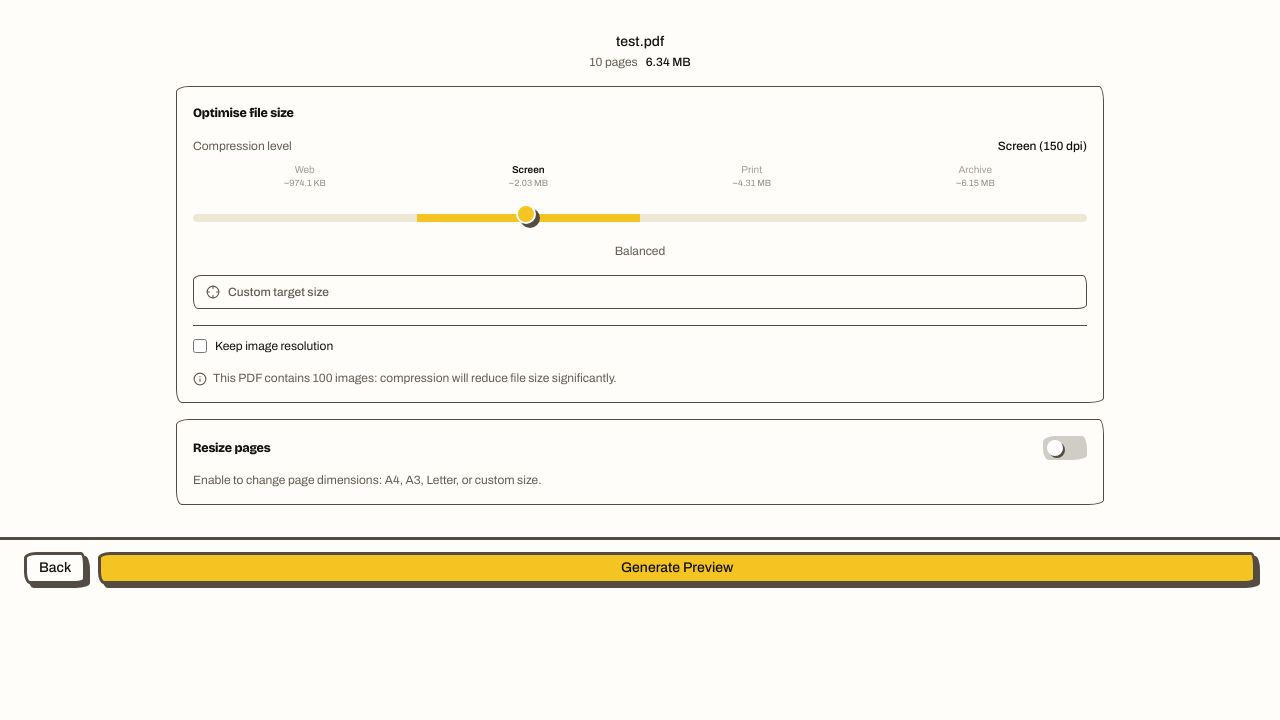
Test: ConfigureStep — custom target pre-estimate warning (Phase C) › [CFG-WARN-01] shows amber warning when custom target is below web-level estimate
Note: Open custom mode
Click the button "Custom target size" at (278, 292), box [193,274,1087,308]
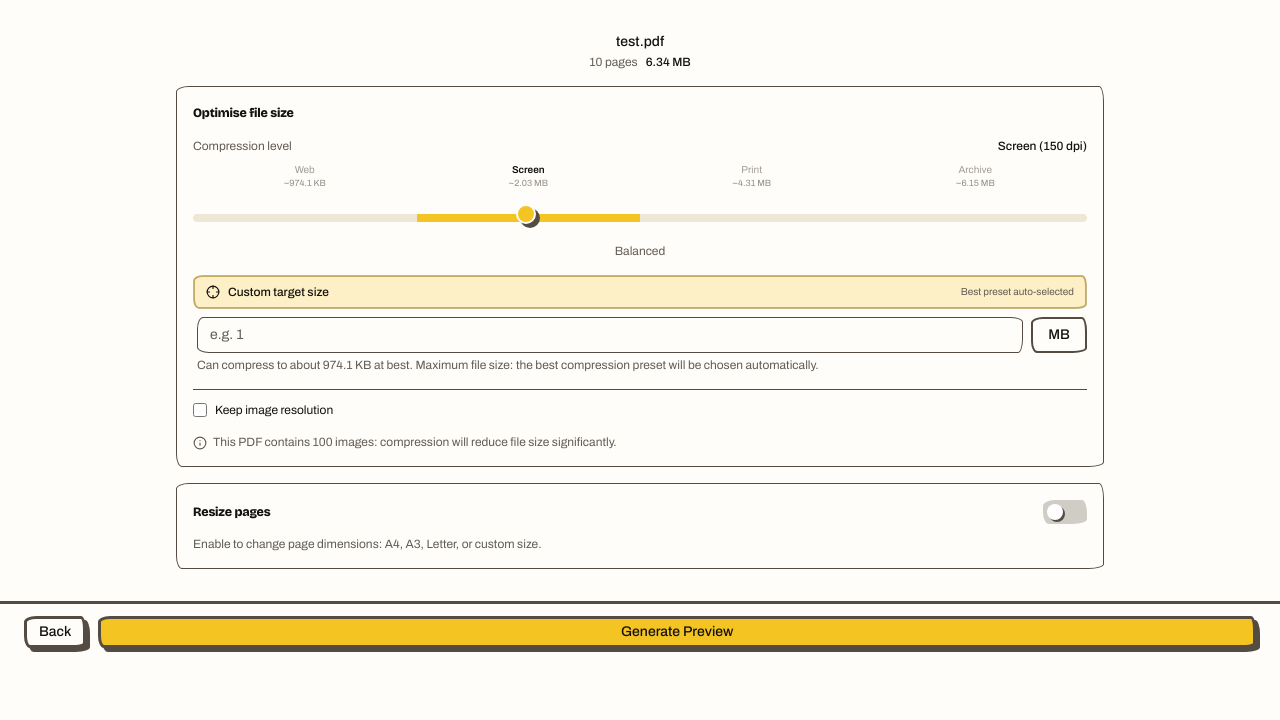
Type "100" into the number field with test id "custom-target-size" at (610, 334), box [197,316,1023,352]
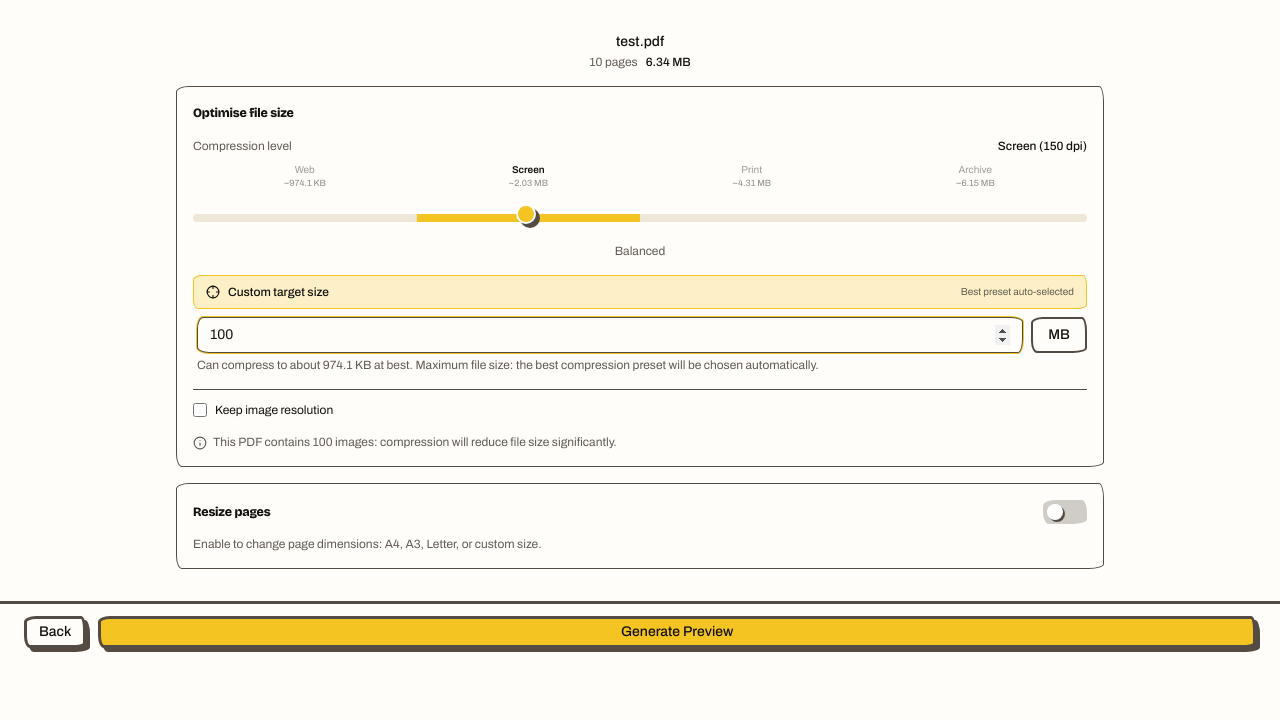
Click the button "MB" at (1059, 334), box [1031,316,1087,352]
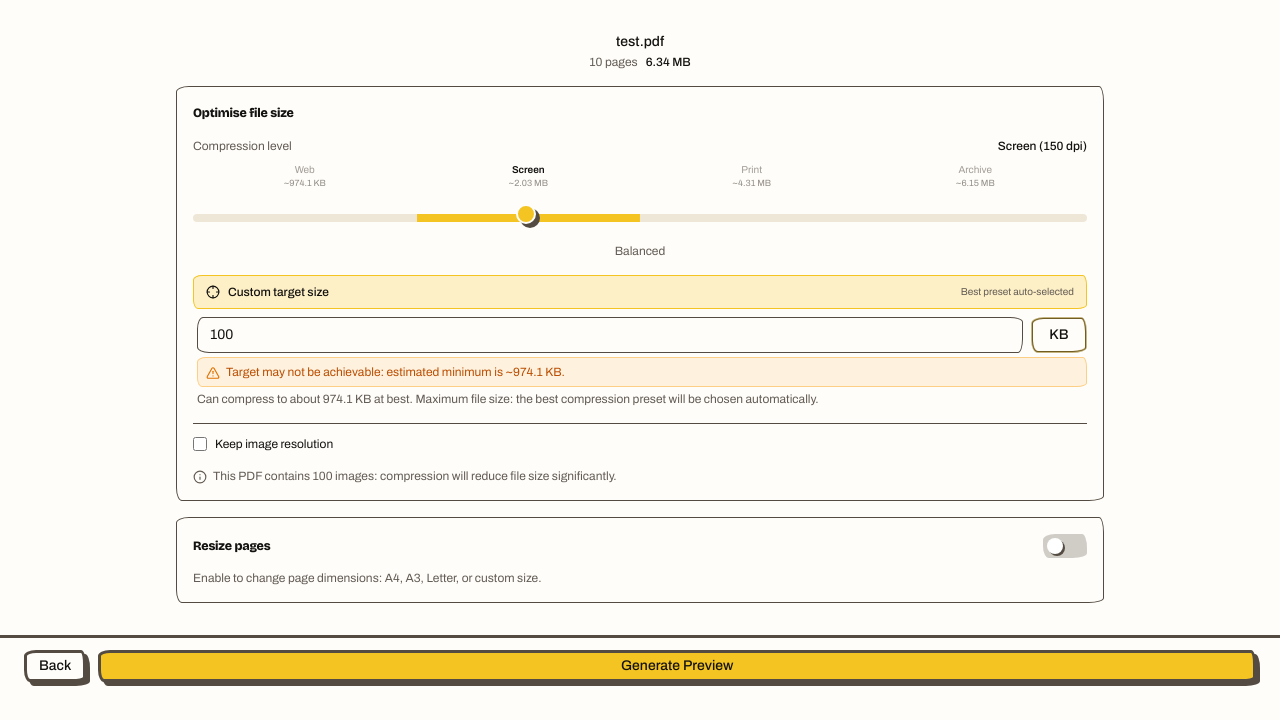
Expected: the element with test id "target-below-min-warning" is shown, [197,356,1087,386]
